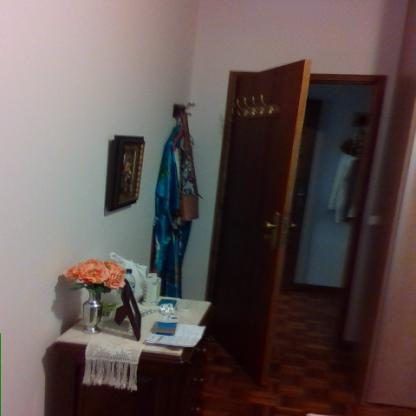semi: (210, 57, 404, 398)
